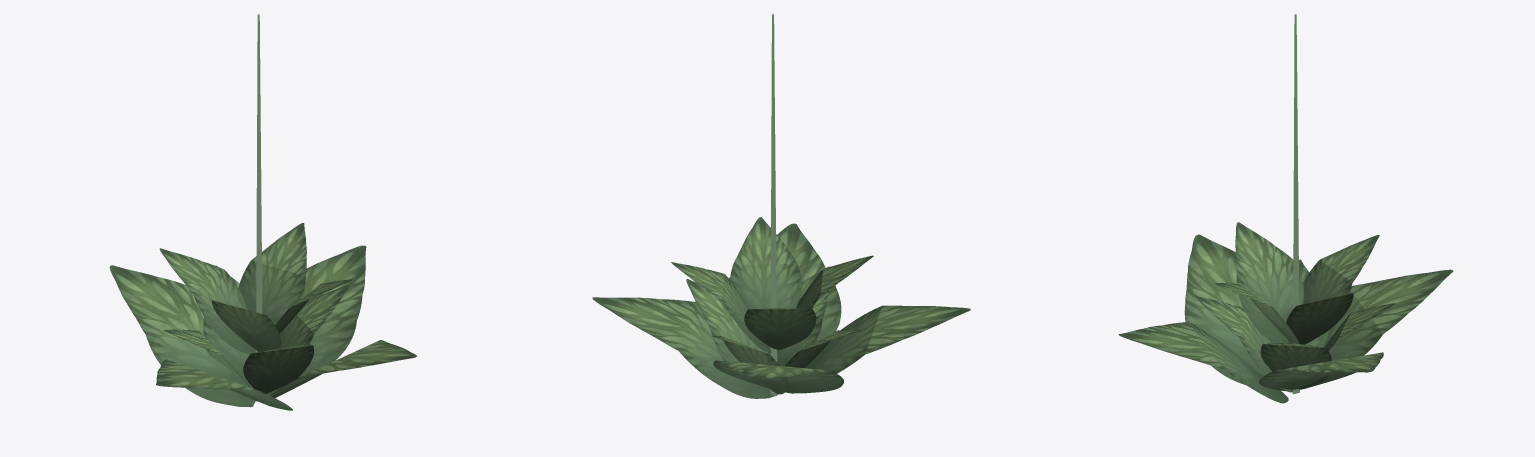
The model's file is NoFlowersSad.fbx.
3 views of the same model, side by side, from view 1: azimuth 30°, elevation 25°; view 2: azimuth 150°, elevation 25°; view 3: azimuth 270°, elevation 25° (orthographic).
Parts seen in each view (by area): view 1: LeafesCurve.014, LeafesCurve.013, LeafesCurve.012, Stem.003; view 2: LeafesCurve.014, LeafesCurve.013, LeafesCurve.012, Stem.003; view 3: LeafesCurve.014, LeafesCurve.013, LeafesCurve.012, Stem.003.
Part boxes in pixels (left/top/right/bottom): LeafesCurve.014: left=109, top=245, right=416, bottom=410; LeafesCurve.013: left=159, top=223, right=352, bottom=354; LeafesCurve.012: left=163, top=265, right=349, bottom=393; Stem.003: left=256, top=14, right=262, bottom=401; LeafesCurve.014: left=592, top=223, right=970, bottom=398; LeafesCurve.013: left=671, top=217, right=873, bottom=352; LeafesCurve.012: left=686, top=266, right=862, bottom=394; Stem.003: left=770, top=14, right=777, bottom=396; LeafesCurve.014: left=1118, top=234, right=1453, bottom=403; LeafesCurve.013: left=1214, top=222, right=1379, bottom=344; LeafesCurve.012: left=1195, top=259, right=1395, bottom=392; Stem.003: left=1292, top=14, right=1299, bottom=394.
Bounding box in the file's own units: 116 × 100 × 113.
